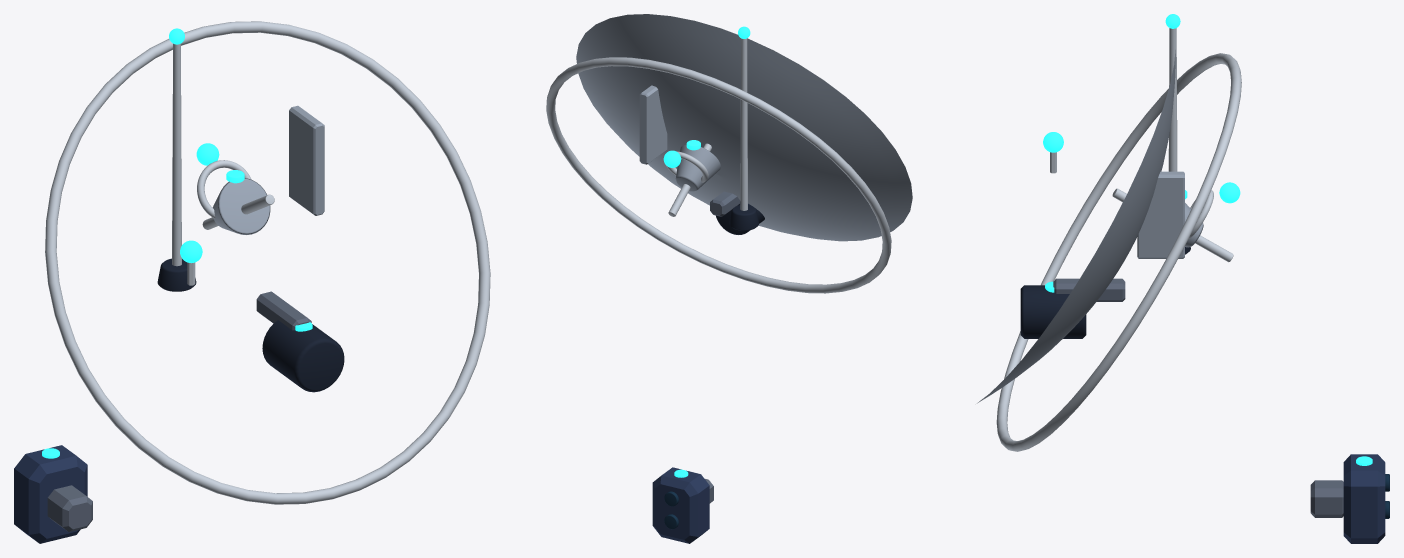
File: tower_skywatch_range_s7.glb
The picture shows the model from 3 angles, left to right: view 1: azimuth 30°, elevation 25°; view 2: azimuth 150°, elevation 25°; view 3: azimuth 270°, elevation 25°; orthographic projection. The views are drawn at different scales.
Visible parts, largest first — view 1: skywatch_wide_rim, skywatch_sensor_cluster, skywatch_dish_counterweight, skywatch_iff_blade, skywatch_feed_horn, skywatch_whip, skywatch_sensor_mount, skywatch_dish_cw_arm, skywatch_whip_base, skywatch_feed_horn_ring; view 2: skywatch_wide_dish, skywatch_wide_rim, skywatch_sensor_cluster, skywatch_iff_blade, skywatch_whip, skywatch_feed_horn, skywatch_whip_base, skywatch_dish_cw_arm; view 3: skywatch_wide_rim, skywatch_wide_dish, skywatch_sensor_cluster, skywatch_iff_blade, skywatch_dish_counterweight, skywatch_sensor_mount, skywatch_whip, skywatch_dish_cw_arm, skywatch_wide_feed_arm.
Part boxes in pixels (box(x1,y1,x2,y2)): skywatch_wide_rim: box(45, 21, 490, 504); skywatch_sensor_cluster: box(14, 445, 87, 543); skywatch_dish_counterweight: box(262, 320, 344, 392); skywatch_iff_blade: box(289, 105, 324, 215); skywatch_feed_horn: box(212, 178, 270, 234); skywatch_whip: box(172, 43, 181, 266); skywatch_sensor_mount: box(47, 485, 92, 531); skywatch_dish_cw_arm: box(256, 291, 311, 330); skywatch_whip_base: box(157, 258, 196, 291); skywatch_feed_horn_ring: box(197, 160, 251, 218); skywatch_wide_dish: box(576, 14, 912, 241); skywatch_wide_rim: box(546, 57, 891, 293); skywatch_sensor_cluster: box(652, 467, 709, 543); skywatch_iff_blade: box(639, 85, 667, 164); skywatch_whip: box(740, 38, 747, 210); skywatch_feed_horn: box(675, 144, 720, 191); skywatch_whip_base: box(729, 205, 759, 230); skywatch_dish_cw_arm: box(710, 191, 740, 216); skywatch_wide_rim: box(996, 53, 1241, 451); skywatch_wide_dish: box(977, 50, 1175, 403); skywatch_sensor_cluster: box(1343, 454, 1385, 543); skywatch_iff_blade: box(1137, 171, 1184, 258); skywatch_dish_counterweight: box(1020, 285, 1086, 338); skywatch_sensor_mount: box(1310, 480, 1343, 517); skywatch_whip: box(1168, 28, 1177, 171); skywatch_dish_cw_arm: box(1053, 278, 1125, 301); skywatch_wide_feed_arm: box(1112, 188, 1233, 262).
Bounding box in the file's own units: 1.52 × 1.96 × 1.5.
